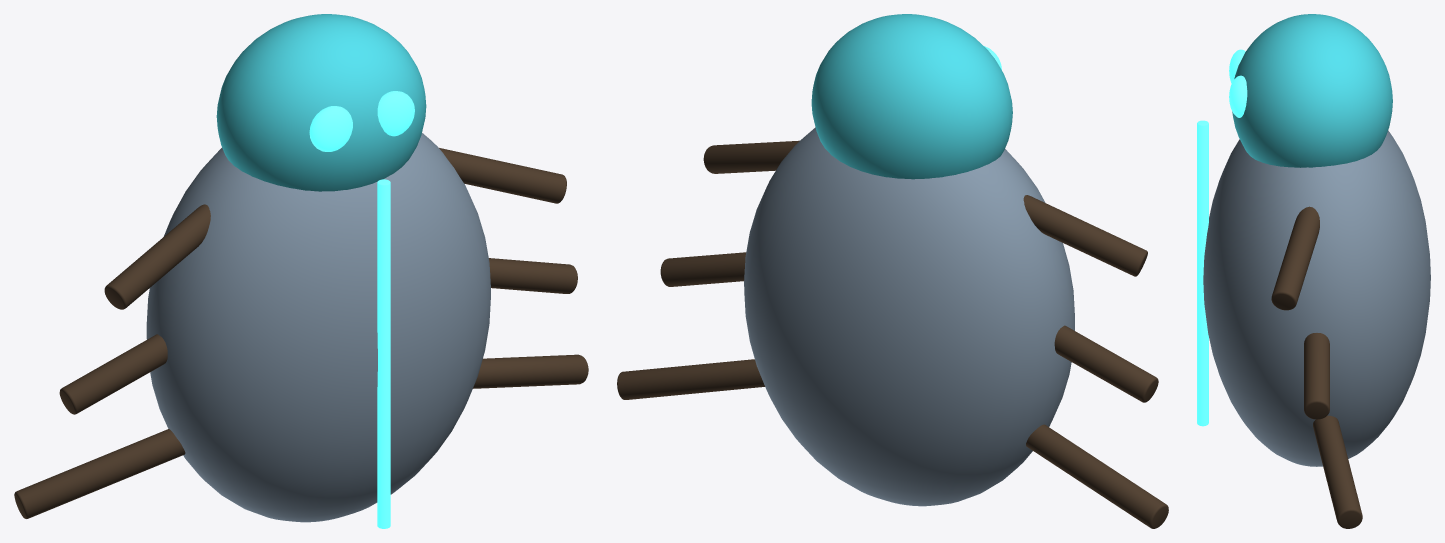
Rendered from insect_v2.glb.
The picture shows the model from 3 angles, left to right: view 1: azimuth 30°, elevation 25°; view 2: azimuth 150°, elevation 25°; view 3: azimuth 270°, elevation 25°; orthographic projection. The views are drawn at different scales.
Visible parts, largest first — view 1: BEETLE_SHELL_PRIMARY, BEETLE_HEAD_ACCENT, BEETLE_LEG_SECONDARY.004, SHELL_SEAM_EMISSIVE, BEETLE_LEG_SECONDARY, BEETLE_LEG_SECONDARY.001, BEETLE_LEG_SECONDARY.002, BEETLE_LEG_SECONDARY.005, BEETLE_LEG_SECONDARY.003, EYE_EMISSIVE, EYE_EMISSIVE.001; view 2: BEETLE_SHELL_PRIMARY, BEETLE_HEAD_ACCENT, BEETLE_LEG_SECONDARY.004, BEETLE_LEG_SECONDARY.005, BEETLE_LEG_SECONDARY, BEETLE_LEG_SECONDARY.002, BEETLE_LEG_SECONDARY.003, BEETLE_LEG_SECONDARY.001; view 3: BEETLE_SHELL_PRIMARY, BEETLE_HEAD_ACCENT, SHELL_SEAM_EMISSIVE, BEETLE_LEG_SECONDARY.005, BEETLE_LEG_SECONDARY.001, BEETLE_LEG_SECONDARY.003, EYE_EMISSIVE.001, EYE_EMISSIVE.
Boxes of the visible parts, box(x1,y1,x2,y2) form: BEETLE_SHELL_PRIMARY: box(146, 133, 490, 522); BEETLE_HEAD_ACCENT: box(216, 14, 426, 191); BEETLE_LEG_SECONDARY.004: box(14, 429, 185, 518); SHELL_SEAM_EMISSIVE: box(377, 179, 390, 528); BEETLE_LEG_SECONDARY: box(104, 204, 210, 309); BEETLE_LEG_SECONDARY.001: box(439, 148, 566, 203); BEETLE_LEG_SECONDARY.002: box(59, 334, 167, 414); BEETLE_LEG_SECONDARY.005: box(473, 354, 588, 388); BEETLE_LEG_SECONDARY.003: box(489, 258, 577, 293); EYE_EMISSIVE: box(309, 106, 352, 151); EYE_EMISSIVE.001: box(377, 91, 414, 136); BEETLE_SHELL_PRIMARY: box(744, 127, 1074, 506); BEETLE_HEAD_ACCENT: box(811, 14, 1012, 179); BEETLE_LEG_SECONDARY.004: box(1026, 424, 1168, 528); BEETLE_LEG_SECONDARY.005: box(617, 359, 764, 399); BEETLE_LEG_SECONDARY: box(1023, 195, 1147, 276); BEETLE_LEG_SECONDARY.002: box(1054, 325, 1158, 402); BEETLE_LEG_SECONDARY.003: box(660, 252, 746, 286); BEETLE_LEG_SECONDARY.001: box(703, 140, 799, 173); BEETLE_SHELL_PRIMARY: box(1203, 130, 1430, 466); BEETLE_HEAD_ACCENT: box(1232, 14, 1392, 167); SHELL_SEAM_EMISSIVE: box(1197, 120, 1208, 426); BEETLE_LEG_SECONDARY.005: box(1313, 415, 1362, 528); BEETLE_LEG_SECONDARY.001: box(1271, 206, 1319, 310); BEETLE_LEG_SECONDARY.003: box(1304, 333, 1329, 419); EYE_EMISSIVE.001: box(1229, 75, 1247, 117); EYE_EMISSIVE: box(1229, 49, 1245, 83).
Size of the model in its own units: 2.41 by 2 by 0.985.
